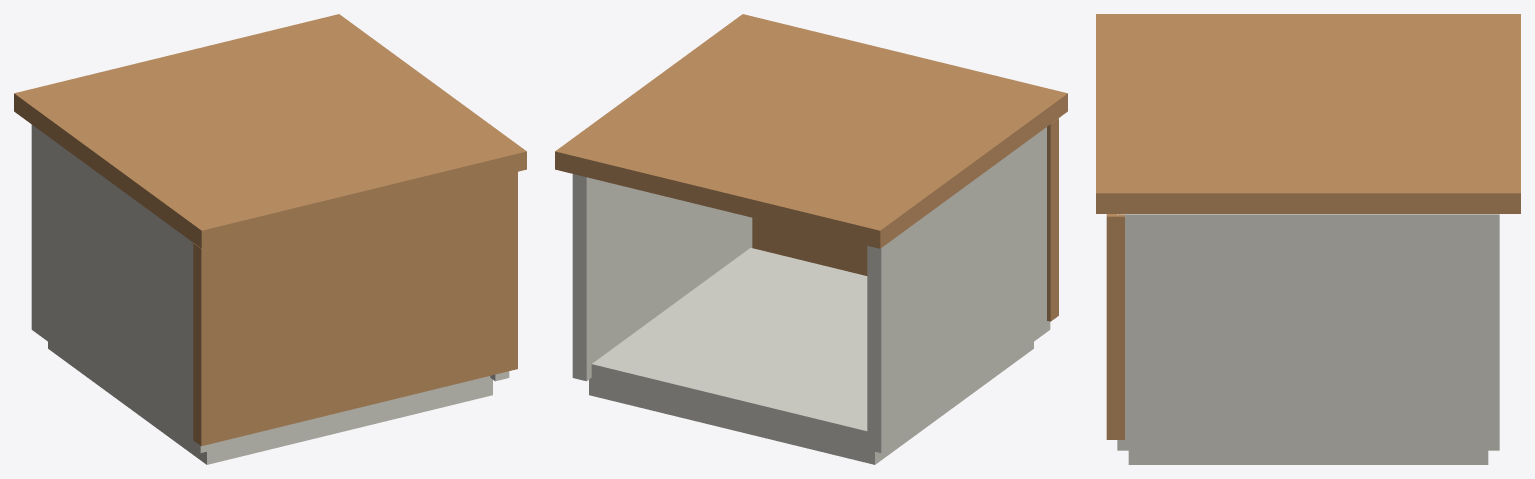
Rendered from admissions-counter-module.lod1.glb.
The picture shows the model from 3 angles, left to right: view 1: azimuth 30°, elevation 25°; view 2: azimuth 150°, elevation 25°; view 3: azimuth 270°, elevation 25°; orthographic projection. The views are drawn at different scales.
Parts seen in each view (by area): view 1: furniture-batch-EXPORT_interior-oak-veneer-0, furniture-batch-EXPORT_interior-matte-plaster-1; view 2: furniture-batch-EXPORT_interior-matte-plaster-1, furniture-batch-EXPORT_interior-oak-veneer-0; view 3: furniture-batch-EXPORT_interior-matte-plaster-1, furniture-batch-EXPORT_interior-oak-veneer-0.
Boxes of the visible parts, x1=… form: furniture-batch-EXPORT_interior-oak-veneer-0: x1=14, y1=14, x2=526, y2=446; furniture-batch-EXPORT_interior-matte-plaster-1: x1=31, y1=124, x2=509, y2=464; furniture-batch-EXPORT_interior-matte-plaster-1: x1=572, y1=127, x2=1050, y2=464; furniture-batch-EXPORT_interior-oak-veneer-0: x1=555, y1=14, x2=1067, y2=321; furniture-batch-EXPORT_interior-matte-plaster-1: x1=1117, y1=214, x2=1499, y2=464; furniture-batch-EXPORT_interior-oak-veneer-0: x1=1096, y1=14, x2=1520, y2=439.
Bounding box in the file's own units: 1.5 × 1.1 × 1.5.
